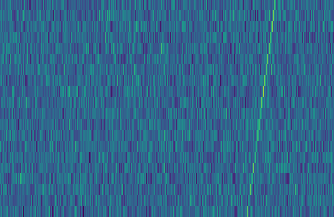signal: (244, 0, 282, 217)
